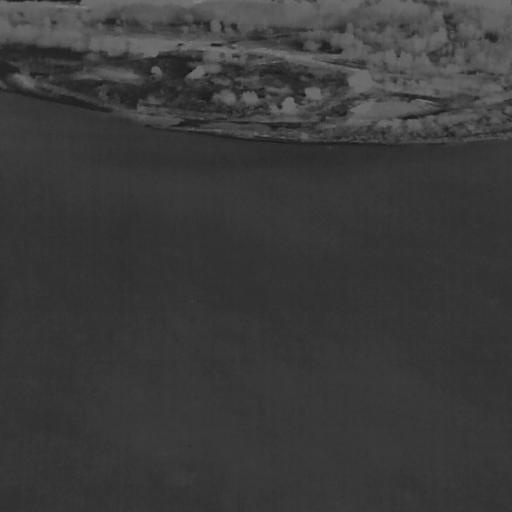uav: (187, 297, 196, 306)
